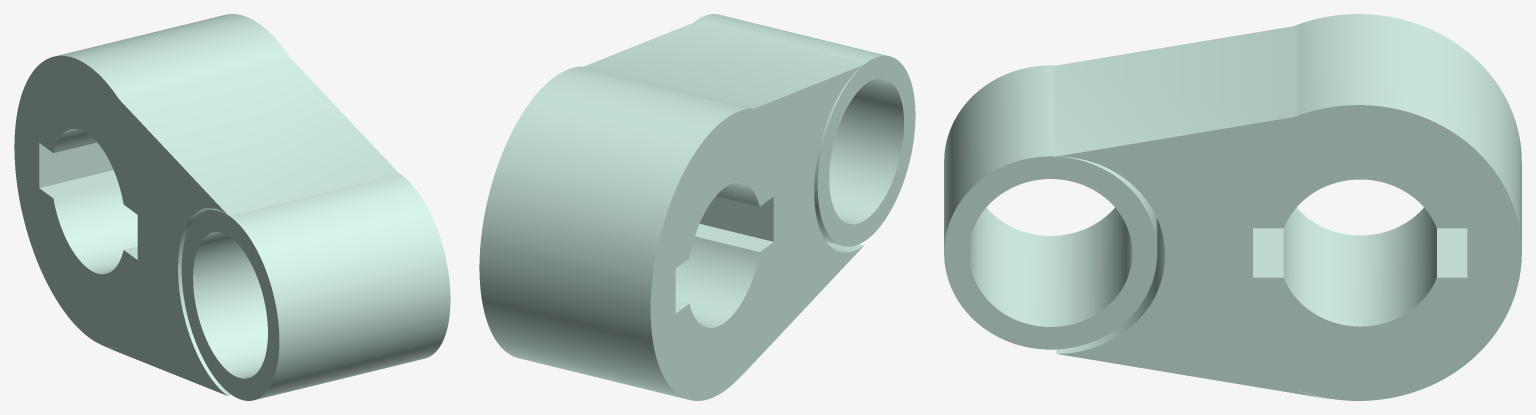
3 views of the same model, side by side, from view 1: azimuth 30°, elevation 25°; view 2: azimuth 150°, elevation 25°; view 3: azimuth 270°, elevation 25° (orthographic). The views are drawn at different scales.
Visible parts, largest first — view 1: Renderer Node; view 2: Renderer Node; view 3: Renderer Node.
Part boxes in pixels (left/top/right/bottom): Renderer Node: left=14, top=14, right=450, bottom=400; Renderer Node: left=479, top=14, right=915, bottom=400; Renderer Node: left=944, top=14, right=1521, bottom=400.
Bounding box in the file's own units: 0.3438 × 0.521 × 0.9218.
